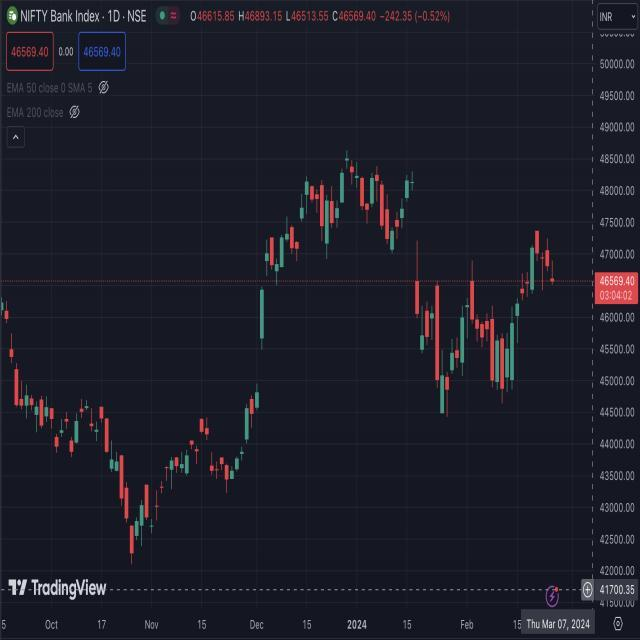GAP DOWN: (410, 170, 424, 319), (0, 298, 18, 367), (203, 415, 219, 487), (47, 408, 60, 456), (64, 414, 76, 460)
GAP UP: (252, 241, 272, 427), (294, 197, 308, 271)
